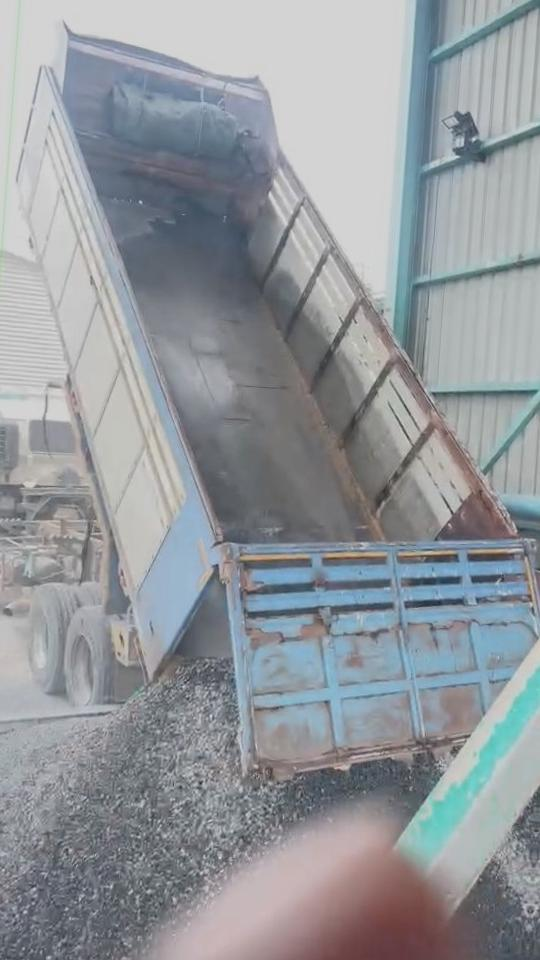gravel: (0, 661, 437, 960), (466, 781, 540, 960)
